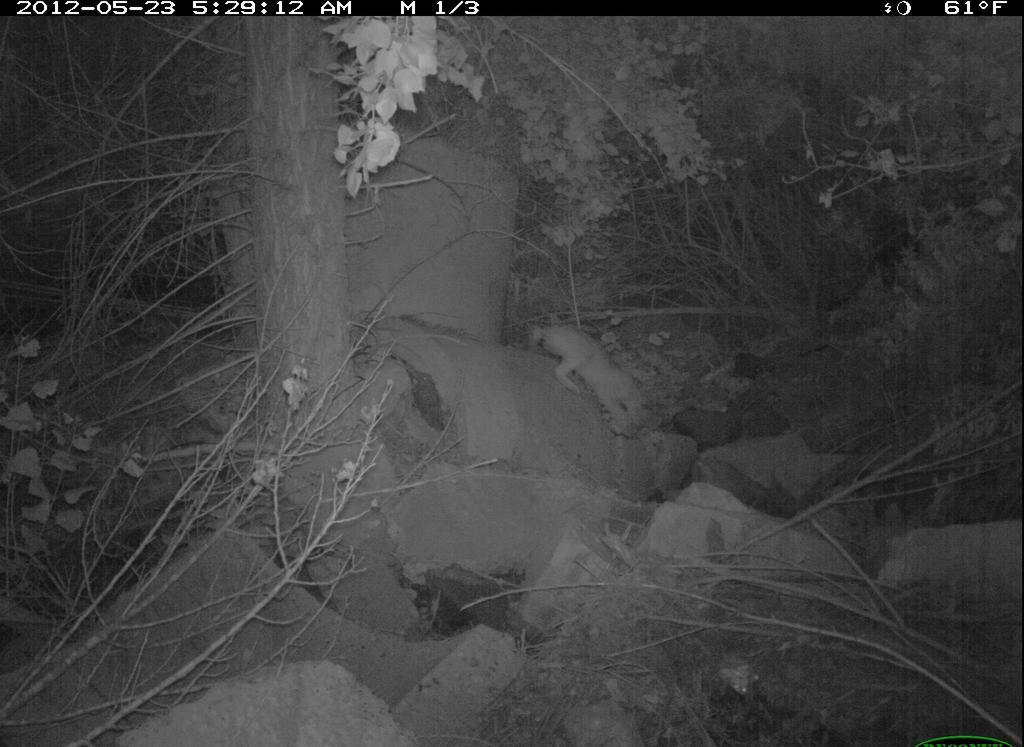bobcat: (524, 317, 660, 443)
